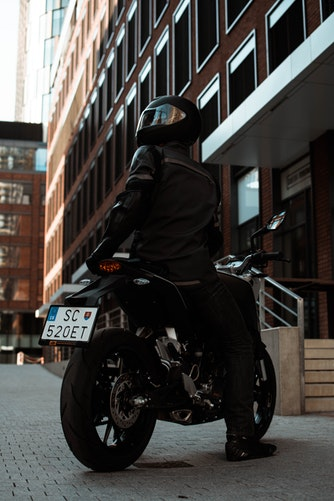helmet: (134, 88, 190, 153)
